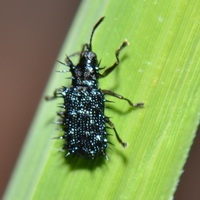insect: (45, 17, 143, 158)
